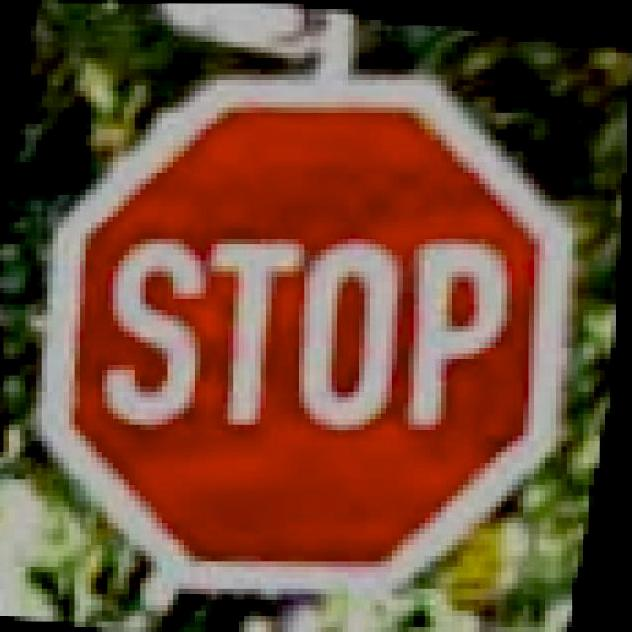stop_sign: (0, 30, 611, 621)
